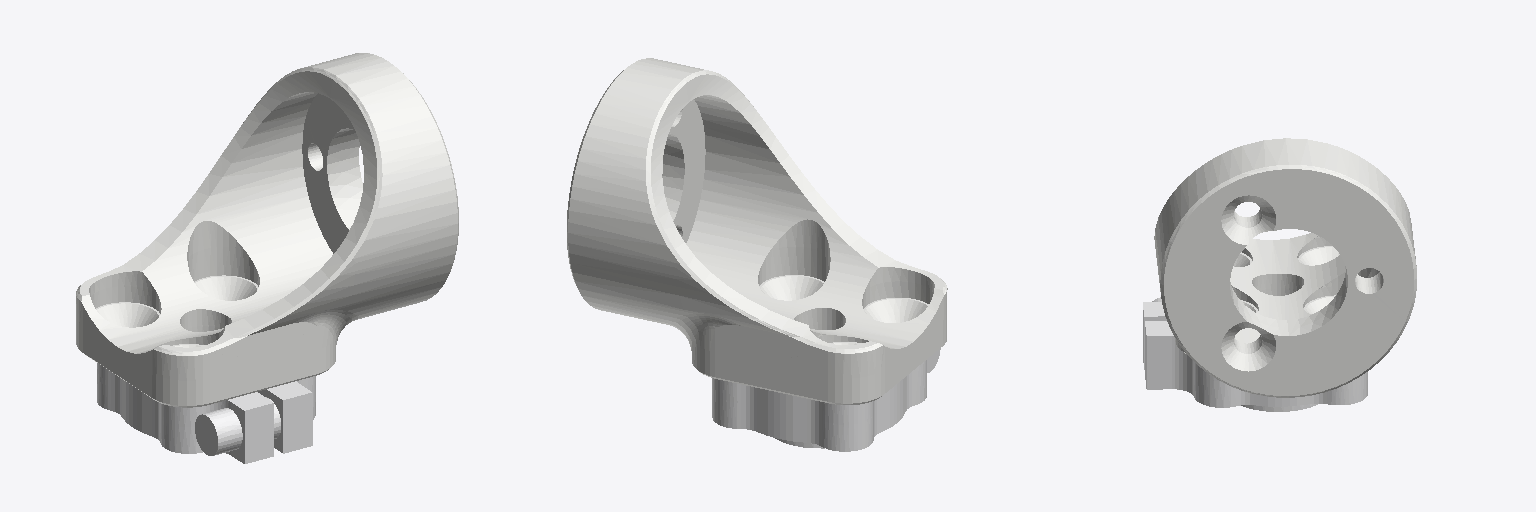
The model's file is bracket_left.obj.
3 views of the same model, side by side, from view 1: azimuth 30°, elevation 25°; view 2: azimuth 150°, elevation 25°; view 3: azimuth 270°, elevation 25° (orthographic).
Visible parts, largest first — view 1: Body1.087_Body1.042, Body1.082_Body1.028; view 2: Body1.087_Body1.042, Body1.082_Body1.028; view 3: Body1.087_Body1.042, Body1.082_Body1.028.
Part boxes in pixels (left/top/right/bottom): Body1.087_Body1.042: left=76, top=53, right=458, bottom=407; Body1.082_Body1.028: left=97, top=363, right=315, bottom=463; Body1.087_Body1.042: left=567, top=58, right=947, bottom=404; Body1.082_Body1.028: left=712, top=348, right=940, bottom=451; Body1.087_Body1.042: left=1154, top=138, right=1416, bottom=397; Body1.082_Body1.028: left=1143, top=297, right=1367, bottom=411.
Size of the model in its own units: 0.0396 by 0.0412 by 0.0325.